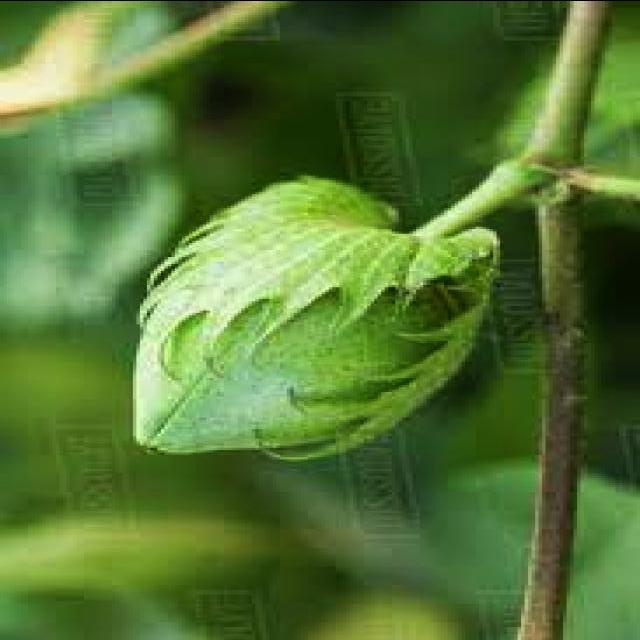Split Cotton Boll: (127, 171, 501, 471)
